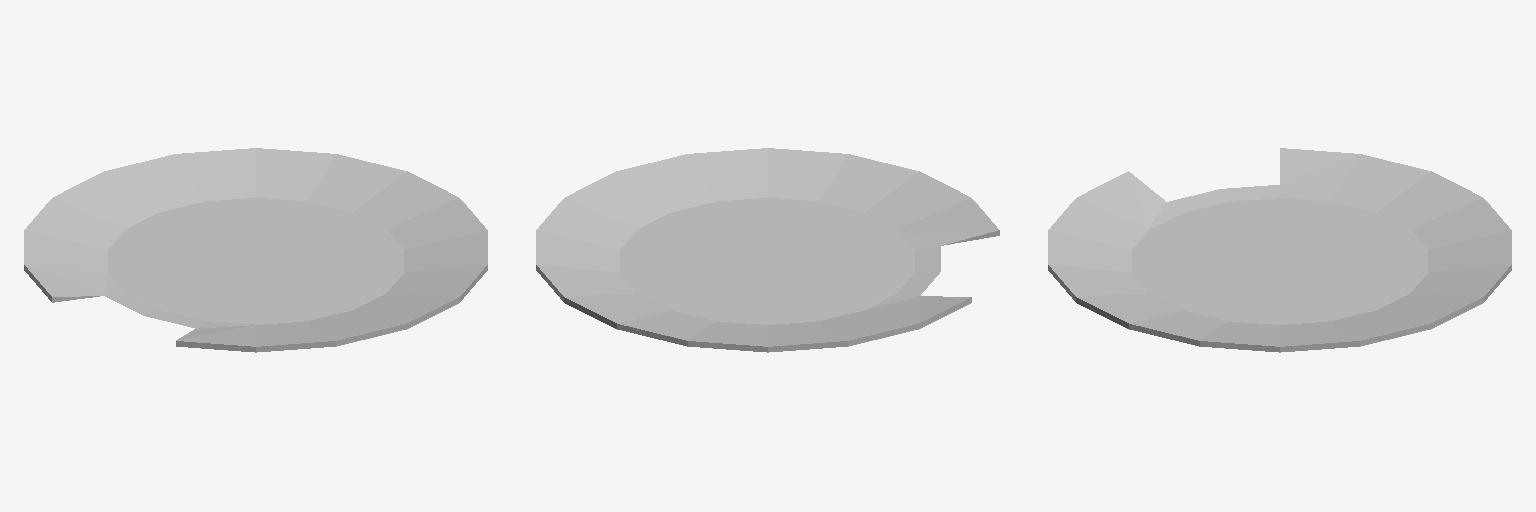
Rendered from Plate1.obj.
3 renders of one model, left to right at view 1: azimuth 30°, elevation 25°; view 2: azimuth 150°, elevation 25°; view 3: azimuth 270°, elevation 25°, orthographic.
Parts seen in each view (by area): view 1: Cylinder01; view 2: Cylinder01; view 3: Cylinder01.
Part boxes in pixels (bbox=[...]): Cylinder01: bbox=[24, 148, 487, 352]; Cylinder01: bbox=[536, 148, 999, 352]; Cylinder01: bbox=[1048, 148, 1511, 352].
Bounding box in the file's own units: 76.2 × 3.07 × 75.04.